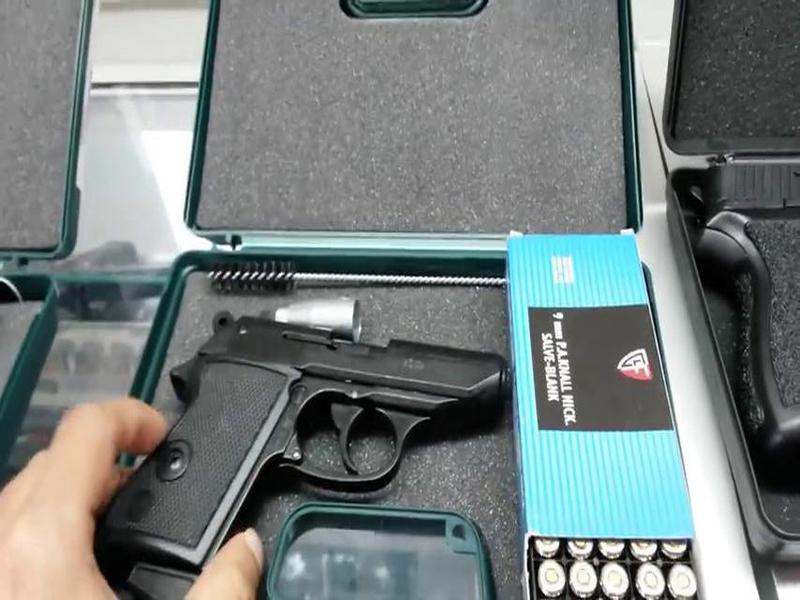Pistola: (83, 294, 527, 584)
